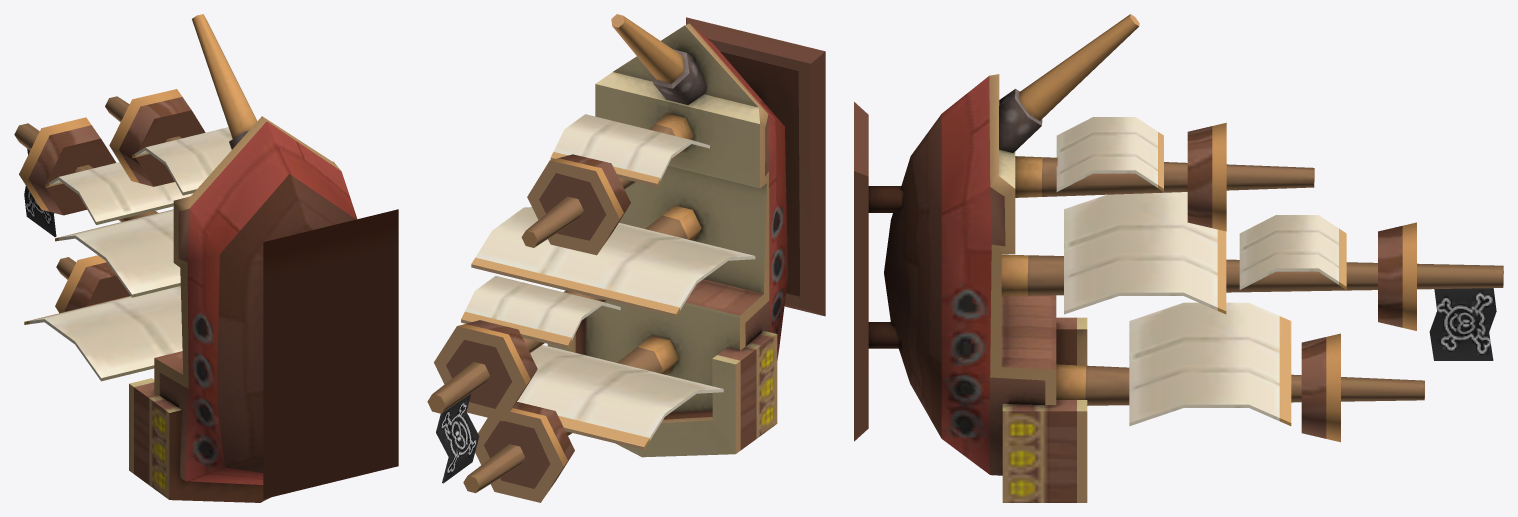
The model's file is MigratorModel.fbx.
3 renders of one model, left to right at view 1: azimuth 30°, elevation 25°; view 2: azimuth 150°, elevation 25°; view 3: azimuth 270°, elevation 25°, orthographic. The views are drawn at different scales.
Visible parts, largest first — view 1: MigratorModel; view 2: MigratorModel; view 3: MigratorModel.
Boxes of the visible parts, x1,y1,x2,y2 form: MigratorModel: (14,14,398,502); MigratorModel: (427,14,825,502); MigratorModel: (854,14,1503,502).
Size of the model in its own units: 39.34 by 84.01 by 106.
